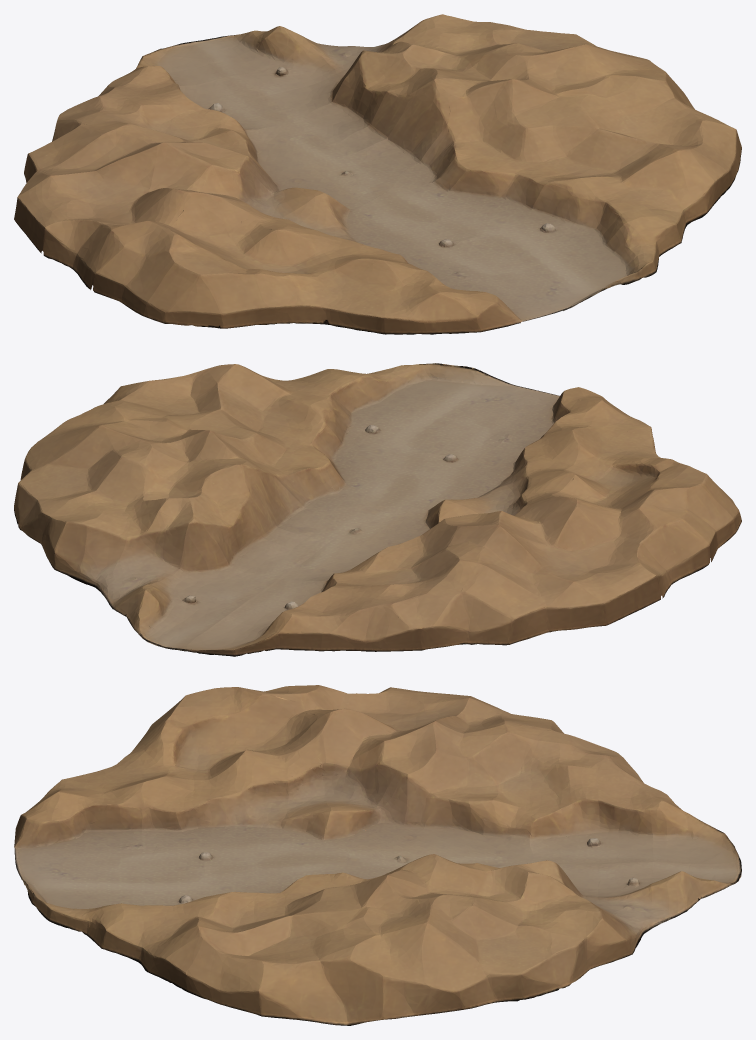
The picture shows the model from 3 angles, top to bottom: view 1: azimuth 30°, elevation 25°; view 2: azimuth 150°, elevation 25°; view 3: azimuth 270°, elevation 25°; orthographic projection. The views are drawn at different scales.
Parts seen in each view (by area): view 1: world; view 2: world; view 3: world.
Part boxes in pixels (<box>): world: <box>14,14,741,334</box>; world: <box>14,363,741,656</box>; world: <box>14,685,741,1025</box>.
Bounding box in the file's own units: 22.4 × 2.34 × 22.3.
1 material, 1 textured.
